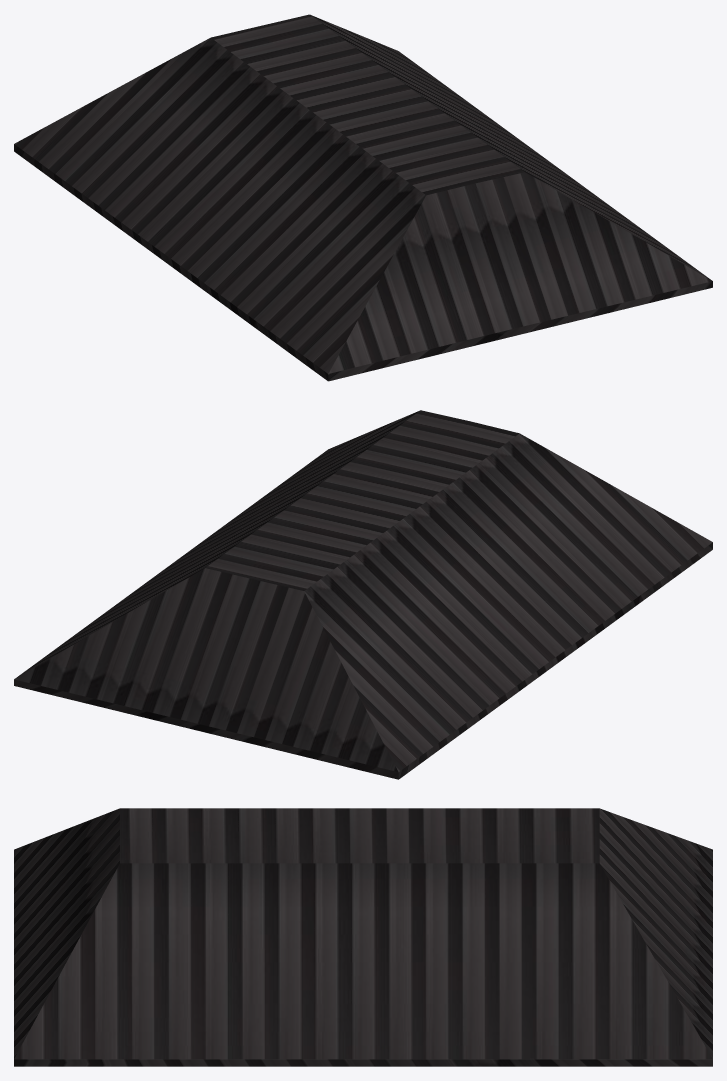
Rendered from Rooftop.fbx.
3 views of the same model, one above another, from view 1: azimuth 30°, elevation 25°; view 2: azimuth 150°, elevation 25°; view 3: azimuth 270°, elevation 25° (orthographic). The views are drawn at different scales.
Visible parts, largest first — view 1: Rooftop; view 2: Rooftop; view 3: Rooftop.
Boxes of the visible parts, x1,y1,x2,y2 form: Rooftop: (14, 14, 712, 381); Rooftop: (14, 410, 712, 779); Rooftop: (14, 808, 712, 1066).
Bounding box in the file's own units: 1143 × 329 × 1618.
